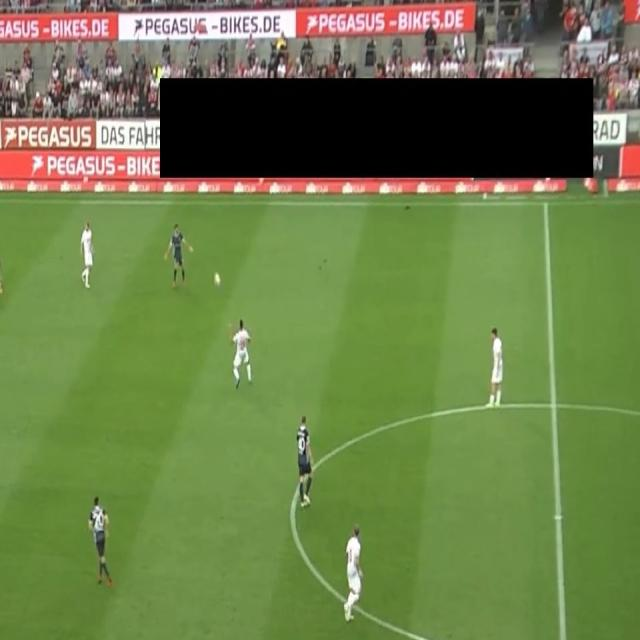ball: (213, 270, 222, 288)
